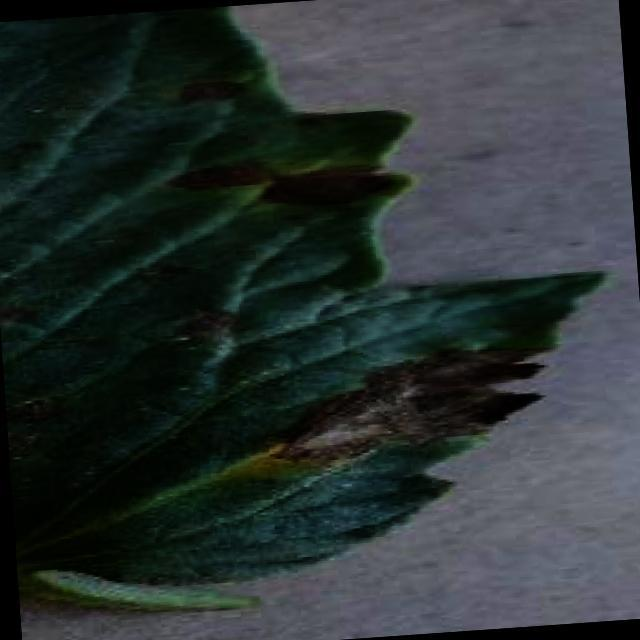Tomato Early blight leaf: (92, 60, 628, 599)
